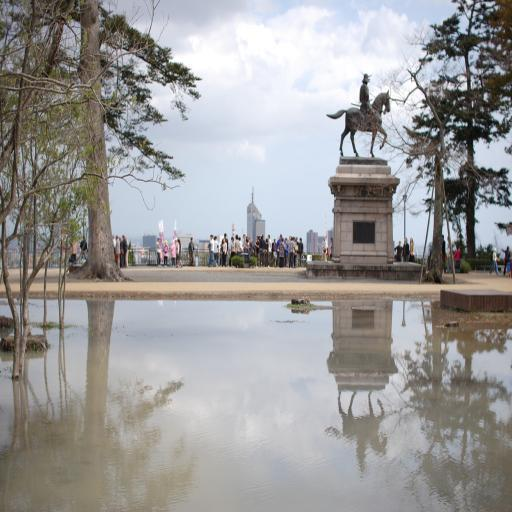horse: (325, 92, 391, 160)
